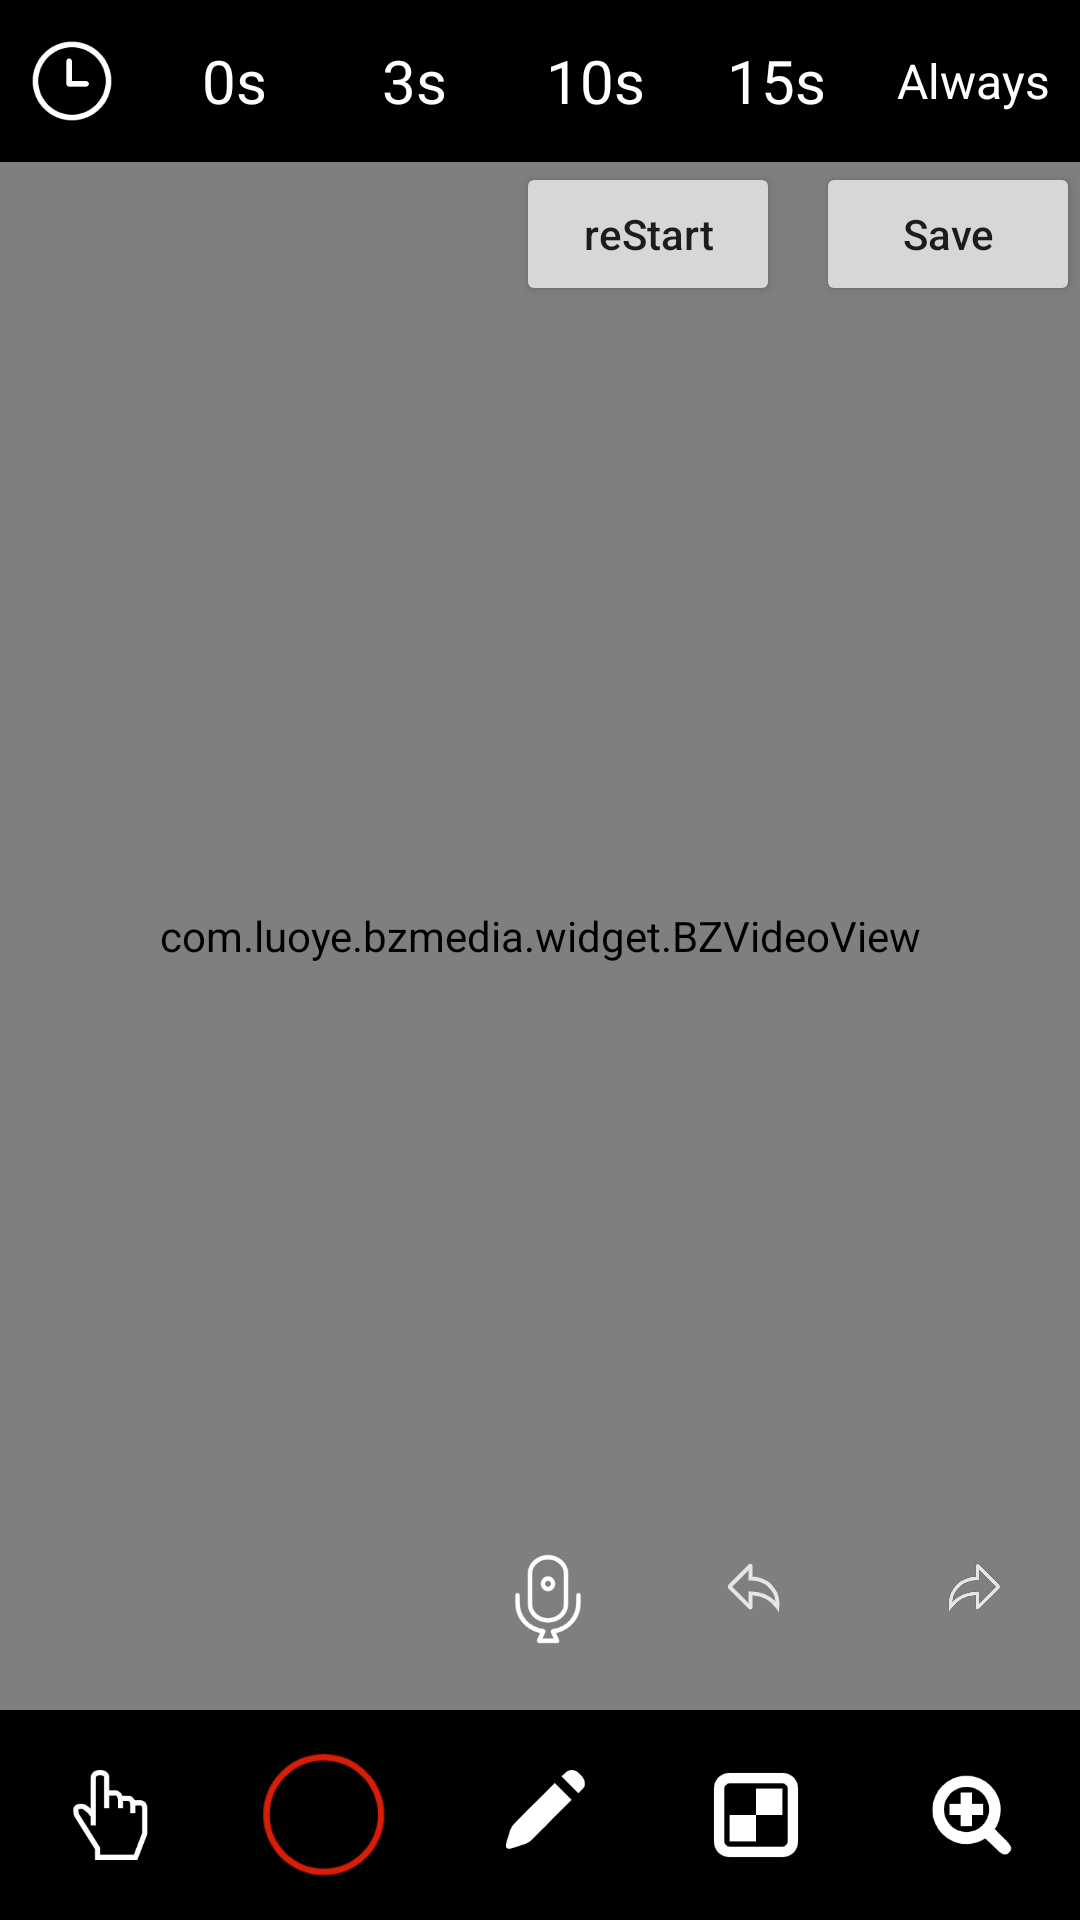

Named icons in this screenshot (1080x1920) and their centers, (x=x, y=y):
clock: (x=72, y=81)
magnifier: (x=972, y=1815)
mosaic: (x=756, y=1815)
pencil: (x=545, y=1809)
pointer: (x=110, y=1815)
sound recording: (x=548, y=1599)
